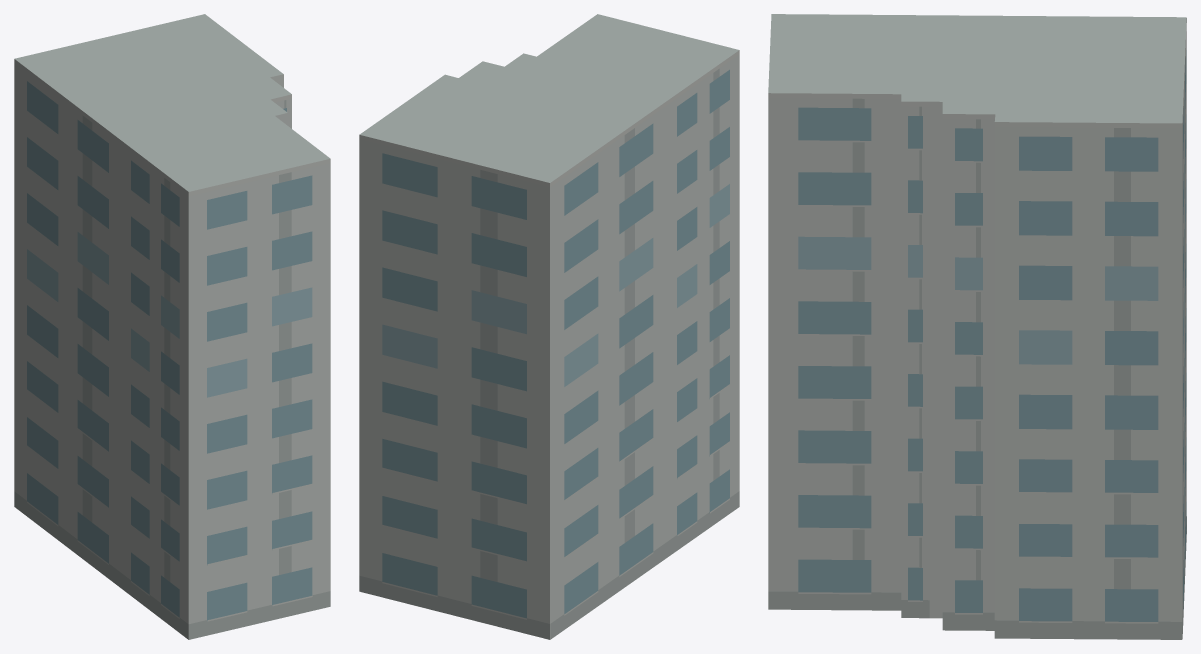
Rendered from survey-upis-32888001.glb.
3 renders of one model, left to right at view 1: azimuth 30°, elevation 25°; view 2: azimuth 150°, elevation 25°; view 3: azimuth 270°, elevation 25°, orthographic. The views are drawn at different scales.
Parts seen in each view (by area): view 1: survey-upis-32888001.tmp; view 2: survey-upis-32888001.tmp; view 3: survey-upis-32888001.tmp.
Part boxes in pixels (x1=…): survey-upis-32888001.tmp: x1=14, y1=14, x2=330, y2=639; survey-upis-32888001.tmp: x1=359, y1=14, x2=739, y2=639; survey-upis-32888001.tmp: x1=768, y1=14, x2=1186, y2=639.
Bounding box in the file's own units: 11.6 × 25.5 × 18.74.
